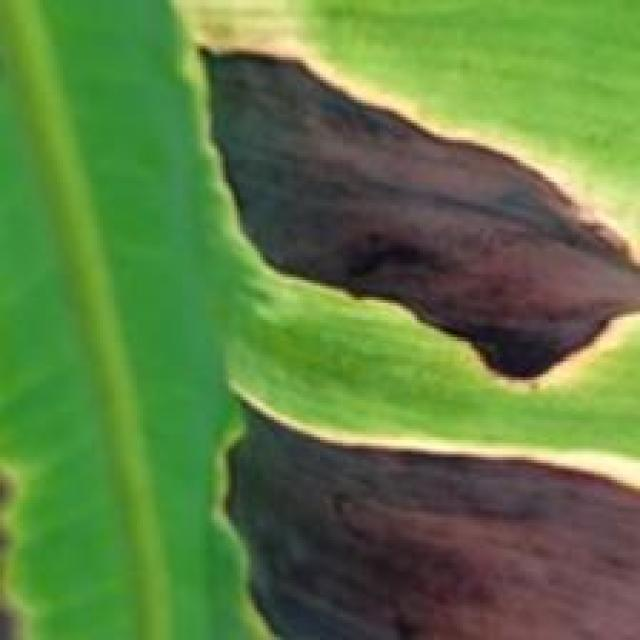Bacterial_spot: (184, 30, 640, 388), (194, 385, 640, 640), (0, 454, 34, 639)
